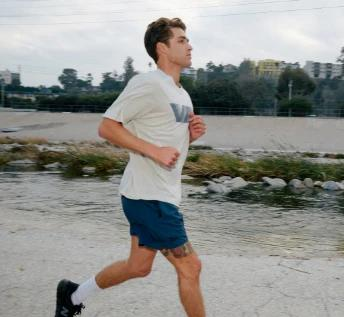Shorts: (120, 193, 190, 251)
short sleeve shirt: (101, 67, 195, 209)
